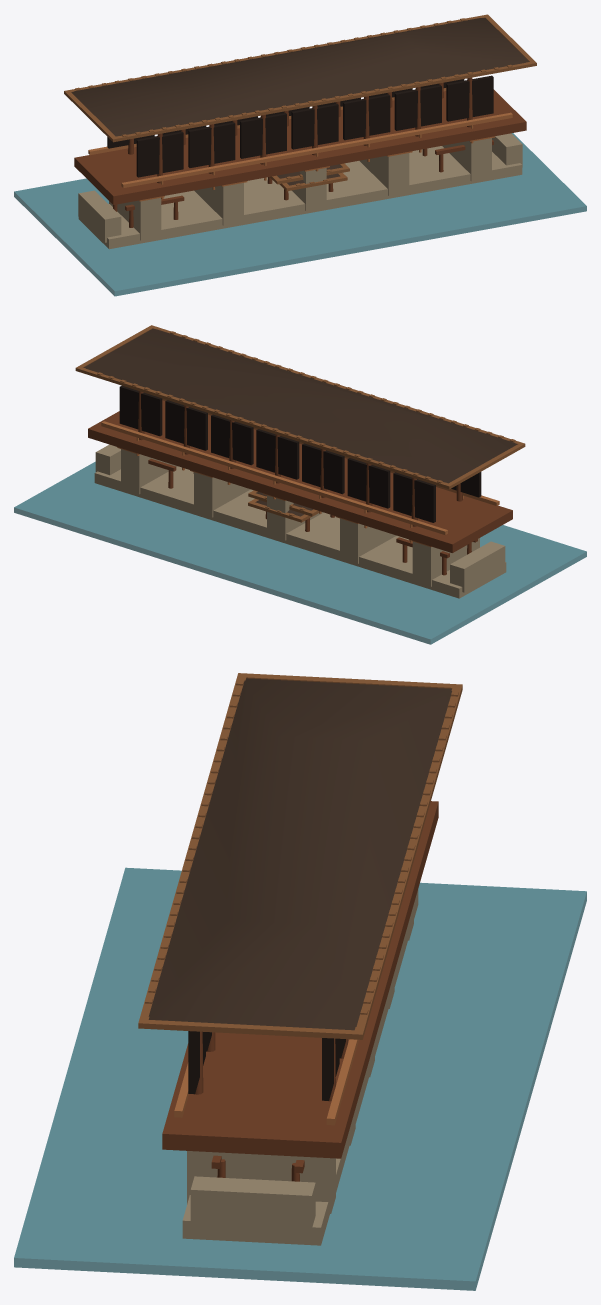
Rendered from model-medium.glb.
3 renders of one model, top to bottom at view 1: azimuth 30°, elevation 25°; view 2: azimuth 150°, elevation 25°; view 3: azimuth 270°, elevation 25°, orthographic. The views are drawn at different scales.
Parts seen in each view (by area): view 1: 浔江水面, Main_Wind_Rain_Roof, Back_Shadow_Bay (×7), Covered_Walkway_Floor, Bridge_Stone_Deck, Stone_Pier (×5), Back_Railing, Entrance_Stone_Block (×2), Main_Wind_Rain_Roof_back_eave, Main_Wind_Rain_Roof_front_eave, Main_Wind_Rain_Roof_left_eave; view 2: 浔江水面, Main_Wind_Rain_Roof, Front_Shadow_Bay (×7), Covered_Walkway_Floor, Bridge_Stone_Deck, Stone_Pier (×5), Entrance_Stone_Block (×2), Front_Railing, Main_Wind_Rain_Roof_front_eave, Main_Wind_Rain_Roof_back_eave, Main_Wind_Rain_Roof_left_eave, Back_Shadow_Bay; view 3: 浔江水面, Main_Wind_Rain_Roof, Covered_Walkway_Floor, Entrance_Stone_Block, Stone_Pier, Bridge_Stone_Deck, Main_Wind_Rain_Roof_front_eave, Main_Wind_Rain_Roof_back_eave, Main_Wind_Rain_Roof_right_eave, Main_Wind_Rain_Roof_left_eave, Front_Railing, Front_Shadow_Bay (+1 smaller).
Part boxes in pixels (<box>): 浔江水面: <box>14,133,586,296</box>; Main_Wind_Rain_Roof: <box>71,18,529,136</box>; Back_Shadow_Bay (×7): <box>136,75,493,177</box>; Covered_Walkway_Floor: <box>74,89,526,204</box>; Bridge_Stone_Deck: <box>78,146,522,249</box>; Stone_Pier (×5): <box>109,138,491,240</box>; Back_Railing: <box>121,112,512,187</box>; Entrance_Stone_Block (×2): <box>78,133,522,242</box>; Main_Wind_Rain_Roof_back_eave: <box>111,61,536,142</box>; Main_Wind_Rain_Roof_front_eave: <box>64,14,489,92</box>; Main_Wind_Rain_Roof_left_eave: <box>64,91,117,141</box>; 浔江水面: <box>14,461,586,644</box>; Main_Wind_Rain_Roof: <box>83,328,517,483</box>; Front_Shadow_Bay (×7): <box>119,385,435,522</box>; Covered_Walkway_Floor: <box>88,400,512,552</box>; Bridge_Stone_Deck: <box>94,466,506,598</box>; Stone_Pier (×5): <box>121,449,479,586</box>; Entrance_Stone_Block (×2): <box>95,444,505,592</box>; Front_Railing: <box>101,421,447,534</box>; Main_Wind_Rain_Roof_front_eave: <box>76,366,452,489</box>; Main_Wind_Rain_Roof_back_eave: <box>149,325,525,447</box>; Main_Wind_Rain_Roof_left_eave: <box>446,442,524,488</box>; Back_Shadow_Bay: <box>451,472,481,497</box>; 浔江水面: <box>14,867,586,1290</box>; Main_Wind_Rain_Roof: <box>148,678,451,1030</box>; Covered_Walkway_Floor: <box>162,801,438,1158</box>; Entrance_Stone_Block: <box>190,1176,315,1237</box>; Stone_Pier: <box>187,1151,335,1213</box>; Bridge_Stone_Deck: <box>182,889,418,1245</box>; Main_Wind_Rain_Roof_front_eave: <box>353,684,462,1039</box>; Main_Wind_Rain_Roof_back_eave: <box>138,673,247,1028</box>; Main_Wind_Rain_Roof_right_eave: <box>138,1020,363,1039</box>; Main_Wind_Rain_Roof_left_eave: <box>245,673,462,692</box>; Front_Railing: <box>326,1039,358,1125</box>; Front_Shadow_Bay: <box>322,1038,339,1100</box>.
Size of the model in its own units: 16.84 by 4.81 by 9.86.
